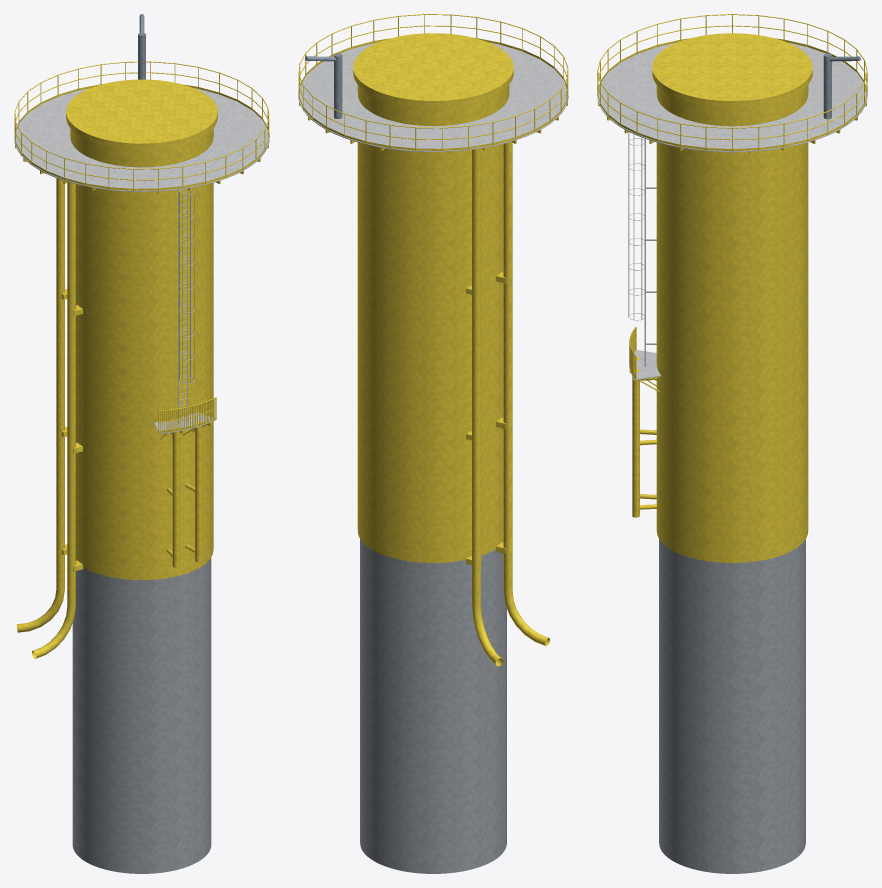
The model's file is offshore-wind-transition-piece-platforms.glb.
The picture shows the model from 3 angles, left to right: view 1: azimuth 30°, elevation 25°; view 2: azimuth 150°, elevation 25°; view 3: azimuth 270°, elevation 25°; orthographic projection. The views are drawn at different scales.
Parts seen in each view (by area): view 1: TransitionPieceCan(context), Monopile(context), Working&RestPlatforms, J-Tubes&Clamps, Handrails, BoatLanding, AccessLadder; view 2: TransitionPieceCan(context), Monopile(context), Working&RestPlatforms, J-Tubes&Clamps, Handrails, DavitCrane(context); view 3: TransitionPieceCan(context), Monopile(context), Working&RestPlatforms, Handrails, AccessLadder, BoatLanding, DavitCrane(context).
Boxes of the visible parts, x1,y1,x2,y2 form: TransitionPieceCan(context): (66,79,217,579); Monopile(context): (72,558,211,873); Working&RestPlatforms: (14,88,269,433); J-Tubes&Clamps: (16,178,83,658); Handrails: (14,61,269,432); BoatLanding: (167,421,202,567); AccessLadder: (177,188,194,423); TransitionPieceCan(context): (353,33,513,562); Monopile(context): (360,539,506,873); Working&RestPlatforms: (298,42,568,152); J-Tubes&Clamps: (466,142,549,666); Handrails: (298,14,568,150); DavitCrane(context): (305,53,342,118); TransitionPieceCan(context): (652,33,812,562); Monopile(context): (659,539,805,873); Working&RestPlatforms: (597,42,867,380); Handrails: (597,14,867,379); AccessLadder: (628,96,656,366); BoatLanding: (632,357,656,517); DavitCrane(context): (823,53,860,119).
Size of the model in its own units: 11.8 by 39.29 by 11.8.
6 materials, 6 textured.
